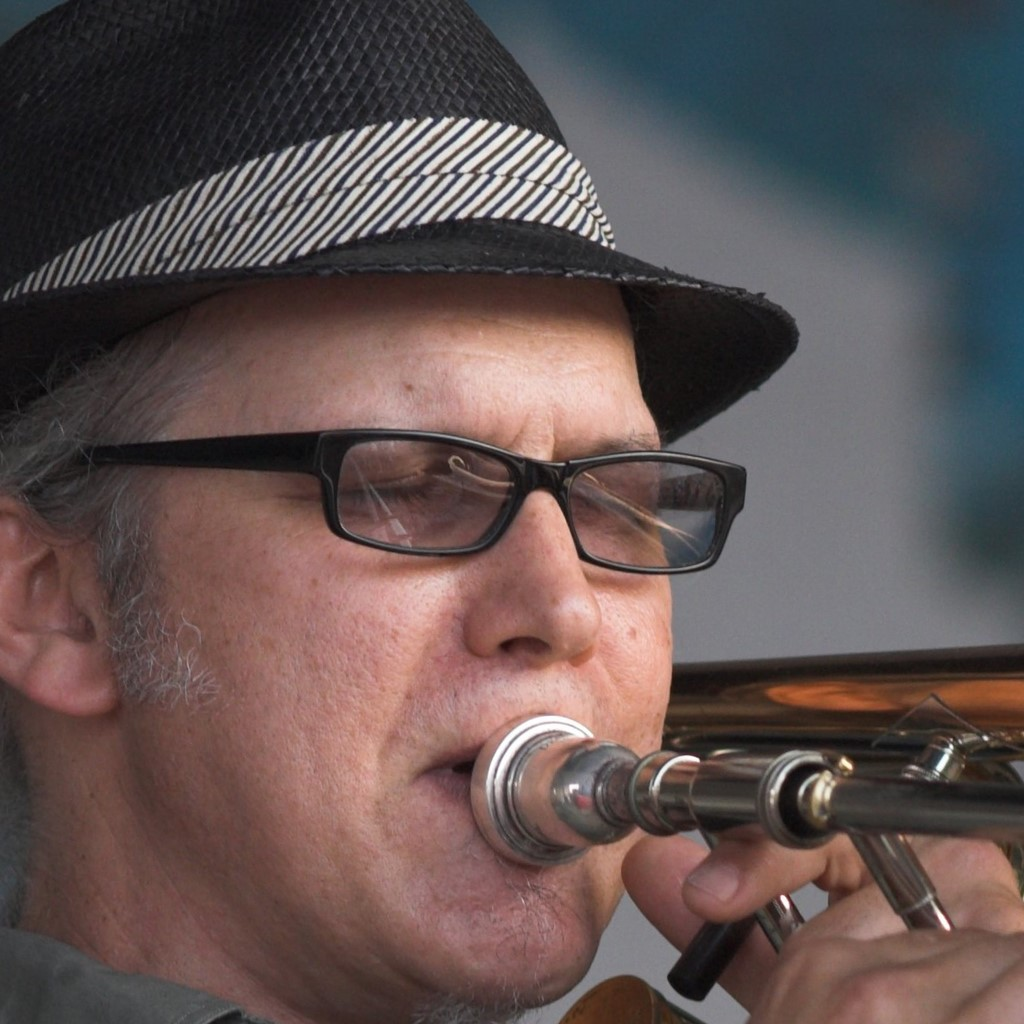sin_mascara: (42, 149, 669, 989)
